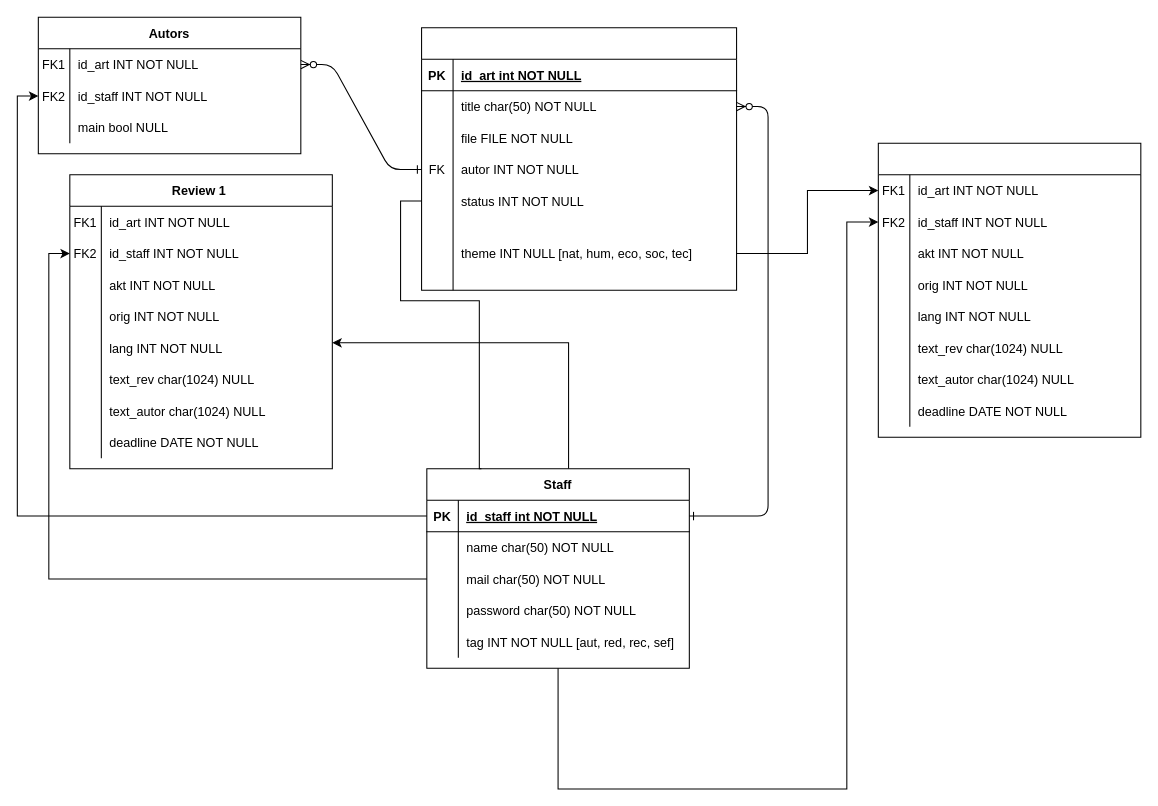
Image size: 1158x806. Some labels were removed from this diagram. The box of each missing label's shape, as (x1, y1, x2, y2) in pixels:
Article: (421, 27, 737, 290)
Review 2: (877, 142, 1141, 437)
